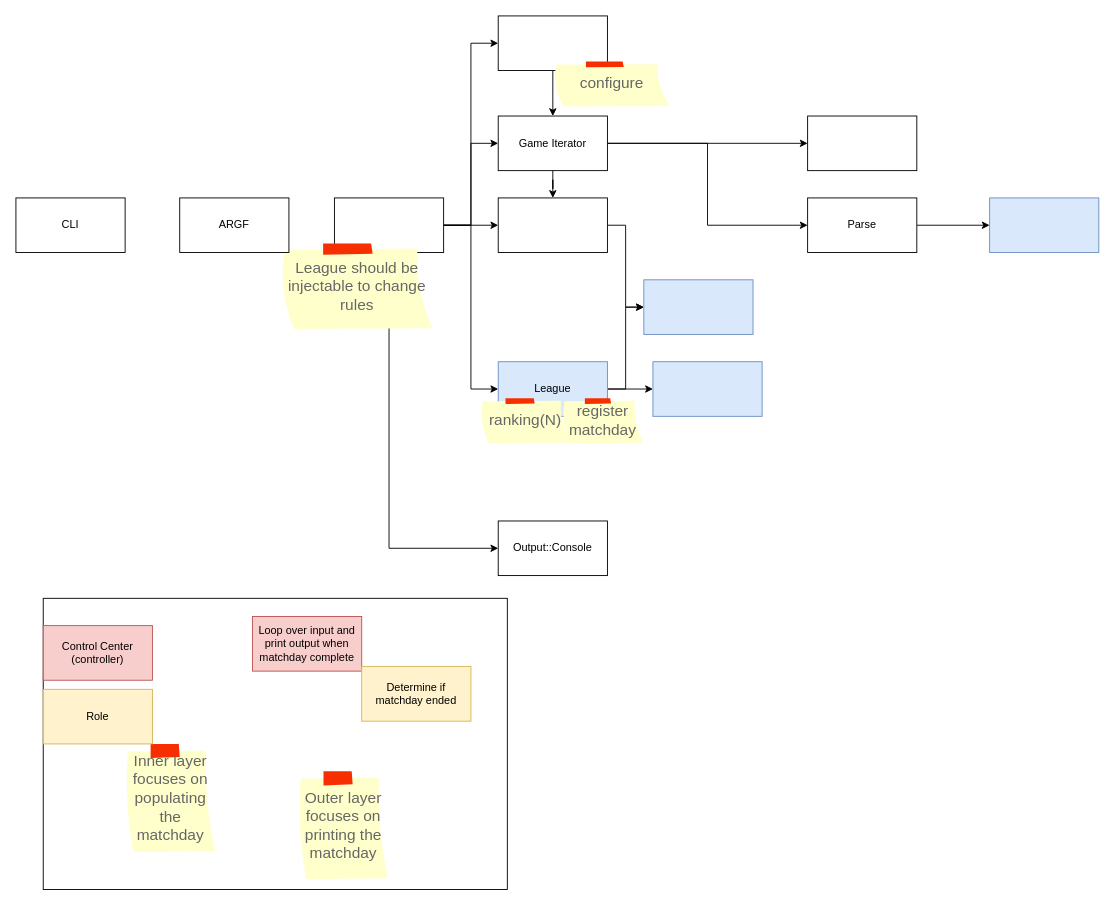
Some shapes in this 1115 by 905 pixel diagram are drawn without their labels. The shapes that lost their labels are listed below. From the top down, each one's box as (x1, y1, x2, y2) in pixels, then its label:
(497, 15, 607, 71): Input (IO)
(807, 115, 917, 171): Validate
(334, 197, 444, 253): Run
(497, 197, 607, 253): Matchday Iterator
(989, 197, 1099, 253): Game
(643, 279, 753, 334): Matchday
(652, 361, 762, 416): Rank - team name - position - score
(42, 597, 507, 890): old stuff
